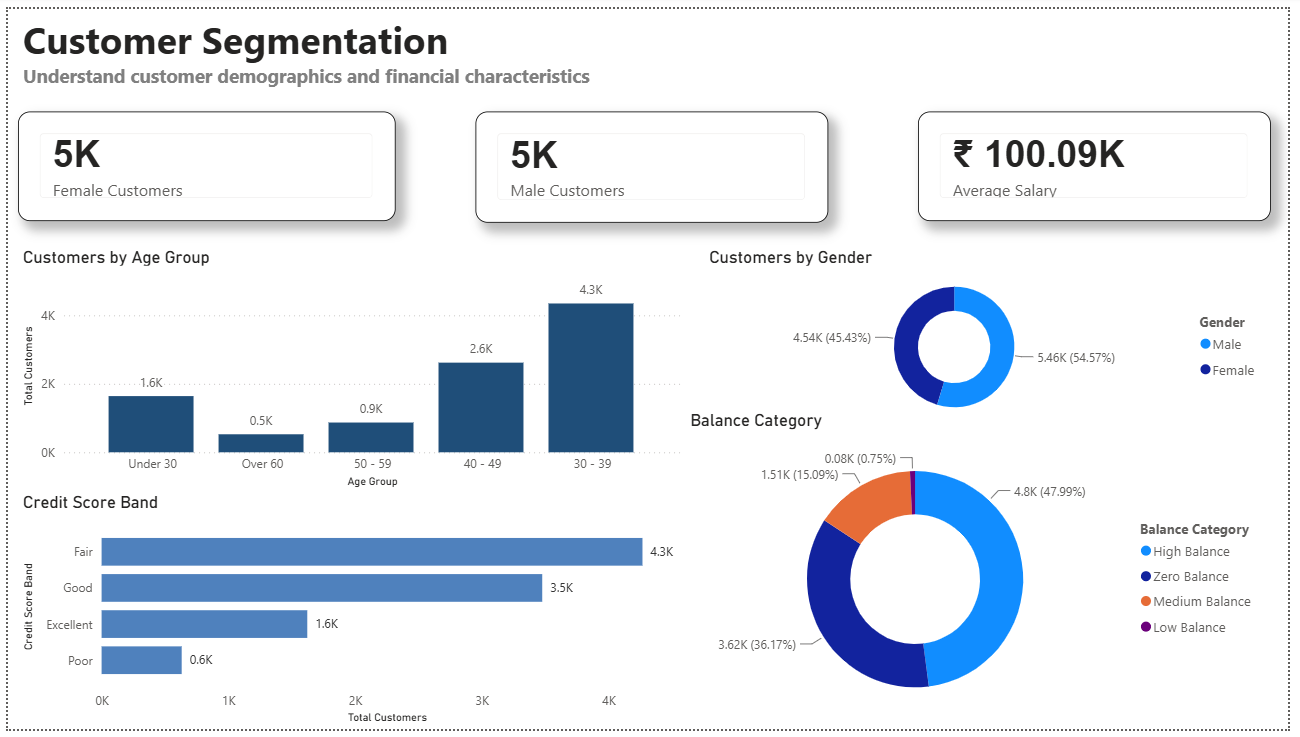

What the dashboard file says about the page in this screenshot:
{"tool":"powerbi","page":{"name":"Customer Segmentation","canvas":[1280,720],"ordinal":1},"visuals":[{"type":"textbox","box":[9.5,0,1270.5,102.7],"z":0},{"type":"cardVisual","fields":{"Data":["Measures (2).Female Customers"]},"box":[9.6,102.9,377.4,109.8],"z":1},{"type":"cardVisual","fields":{"Data":["Measures (2).Average Salary"]},"box":[909.8,102.9,352.7,109.8],"z":2},{"type":"cardVisual","fields":{"Data":["Measures (2).Male Customers"]},"box":[467.9,102.9,352.7,111.1],"z":3},{"type":"clusteredColumnChart","title":"Customers by Age Group ","fields":{"Category":["Churn_Modelling.Age Group"],"Y":["Measures (2).Total Customers"]},"box":[9.8,237.2,667.7,245.8],"z":4},{"type":"donutChart","title":"Customers by Gender","fields":{"Category":["Churn_Modelling.Gender"],"Y":["Measures (2).Total Customers"]},"box":[695.8,237.2,566.2,182.2],"z":5},{"type":"clusteredBarChart","title":"Credit Score Band","fields":{"Category":["Churn_Modelling.Credit Score Band"],"Y":["Measures (2).Total Customers"]},"box":[9.8,483,667.7,237.2],"z":6},{"type":"donutChart","title":"Balance Category","fields":{"Y":["Measures (2).Total Customers"],"Category":["Churn_Modelling.Balance Category"]},"box":[677.4,401.1,584.5,319.2],"z":7}]}

Visuals, with their boxes in screenshot pixels (x1, y1, x2, y2), scaled from the page's 1280x720 canvas onto the 1300x737 screenshot:
textbox: 10:0:1299:105
cardVisual - Measures (2).Female Customers: 10:105:393:218
cardVisual - Measures (2).Average Salary: 924:105:1282:218
cardVisual - Measures (2).Male Customers: 475:105:833:219
"Customers by Age Group " clusteredColumnChart: 10:243:688:494
"Customers by Gender" donutChart: 707:243:1282:429
"Credit Score Band" clusteredBarChart: 10:494:688:736
"Balance Category" donutChart: 688:411:1282:736
